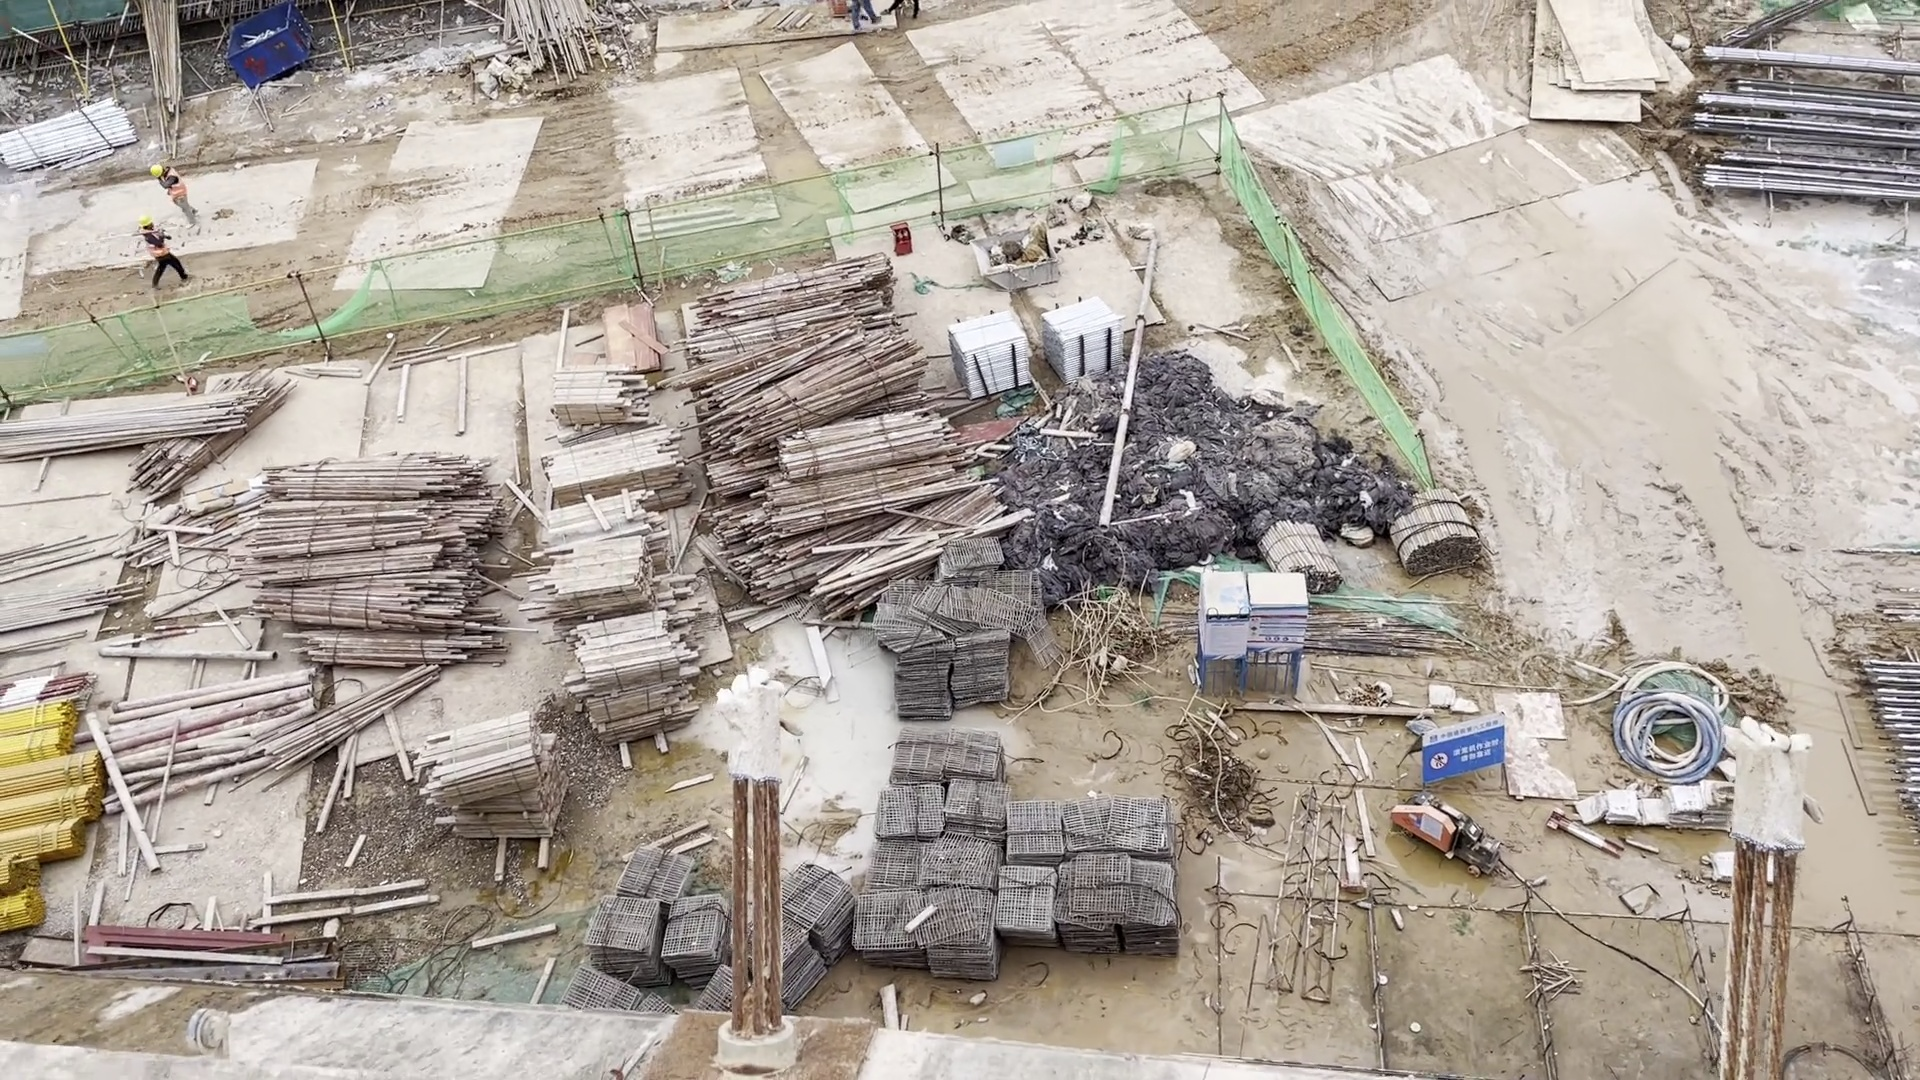helmet: (150, 164, 162, 177), (137, 216, 151, 225)
hopper: (224, 8, 317, 83), (968, 220, 1063, 289)
person: (137, 216, 194, 287), (145, 164, 201, 227), (844, 1, 885, 30)
rebar: (1688, 29, 1920, 221)
scaffold: (944, 294, 1124, 396), (2, 105, 137, 181)
slogan: (1426, 717, 1503, 787)
vest: (163, 170, 186, 200), (143, 231, 168, 256)
wood: (537, 372, 703, 746), (415, 708, 567, 840)
